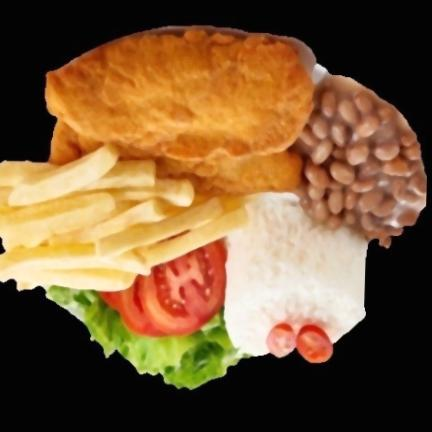beans: (296, 77, 427, 247)
chicken: (47, 30, 315, 196)
potato: (0, 148, 245, 290)
rice: (225, 198, 368, 356)
salad: (48, 287, 248, 389)
tomato: (99, 241, 227, 337), (267, 324, 332, 363)
